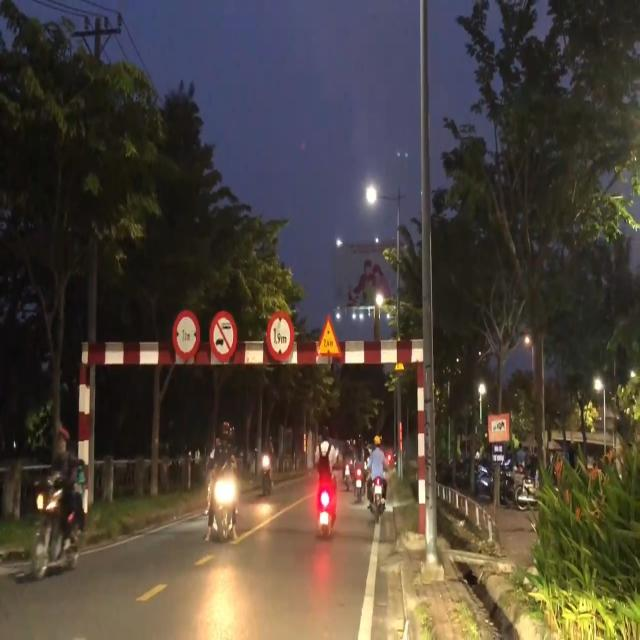Bien bao cam xe oto khach va xe oto tai: (208, 305, 238, 361)
Bien bao chieu cao tinh khong thuc te: (314, 311, 341, 361)
Bien bao han che chieu cao: (265, 299, 297, 373)
